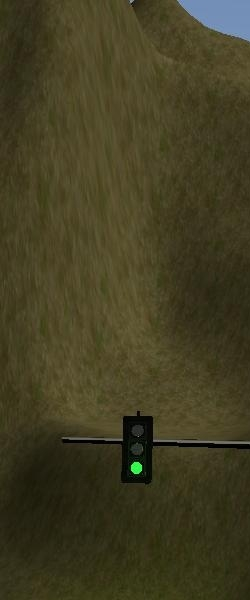Green: (123, 414, 152, 486)
